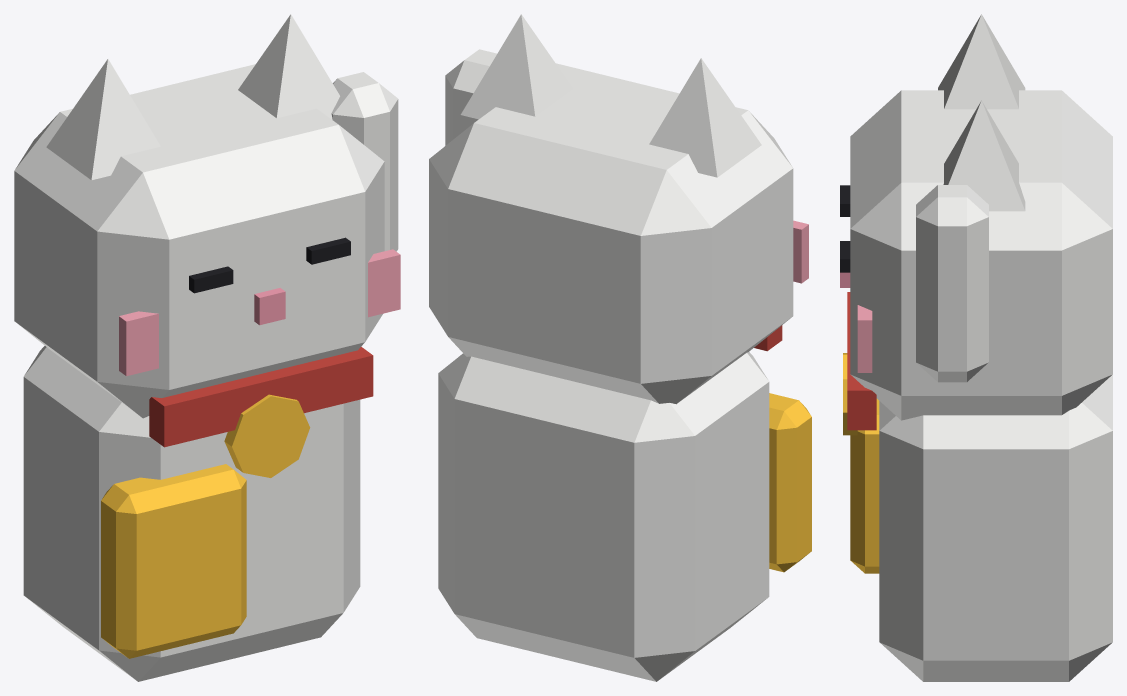
File: LuckyCat.fbx
The picture shows the model from 3 angles, left to right: view 1: azimuth 30°, elevation 25°; view 2: azimuth 150°, elevation 25°; view 3: azimuth 270°, elevation 25°; orthographic projection. The views are drawn at different scales.
Parts seen in each view (by area): view 1: LuckyCat; view 2: LuckyCat; view 3: LuckyCat.
Part boxes in pixels (left/top/right/bottom): LuckyCat: left=14, top=14, right=400, bottom=681; LuckyCat: left=429, top=14, right=811, bottom=681; LuckyCat: left=840, top=14, right=1112, bottom=681.
Bounding box in the file's own units: 2.45 × 4.4 × 1.87.
1 material, 1 textured.
